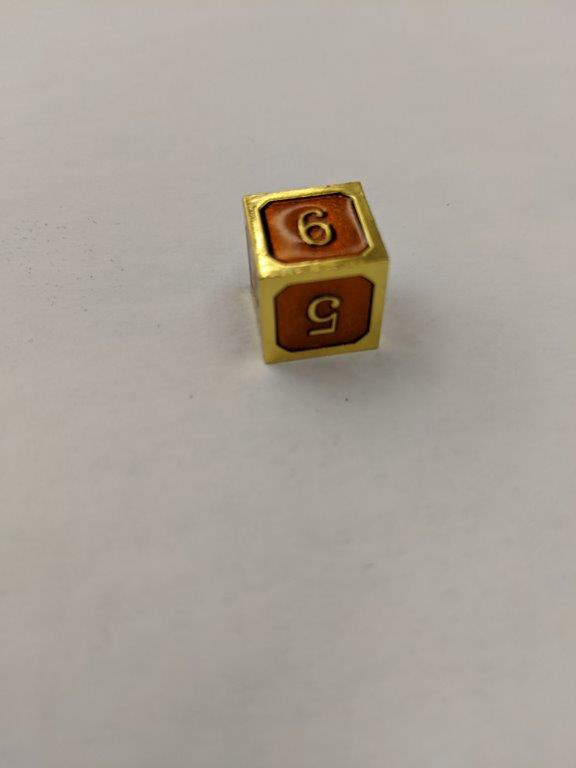d6-6: (239, 178, 392, 368)
